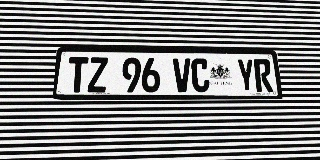6: (142, 58, 160, 92)
9: (122, 57, 141, 92)
C: (191, 58, 210, 92)
R: (253, 59, 273, 92)
T: (67, 57, 88, 92)
V: (173, 58, 191, 92)
Y: (236, 59, 256, 92)
Z: (87, 57, 108, 92)
